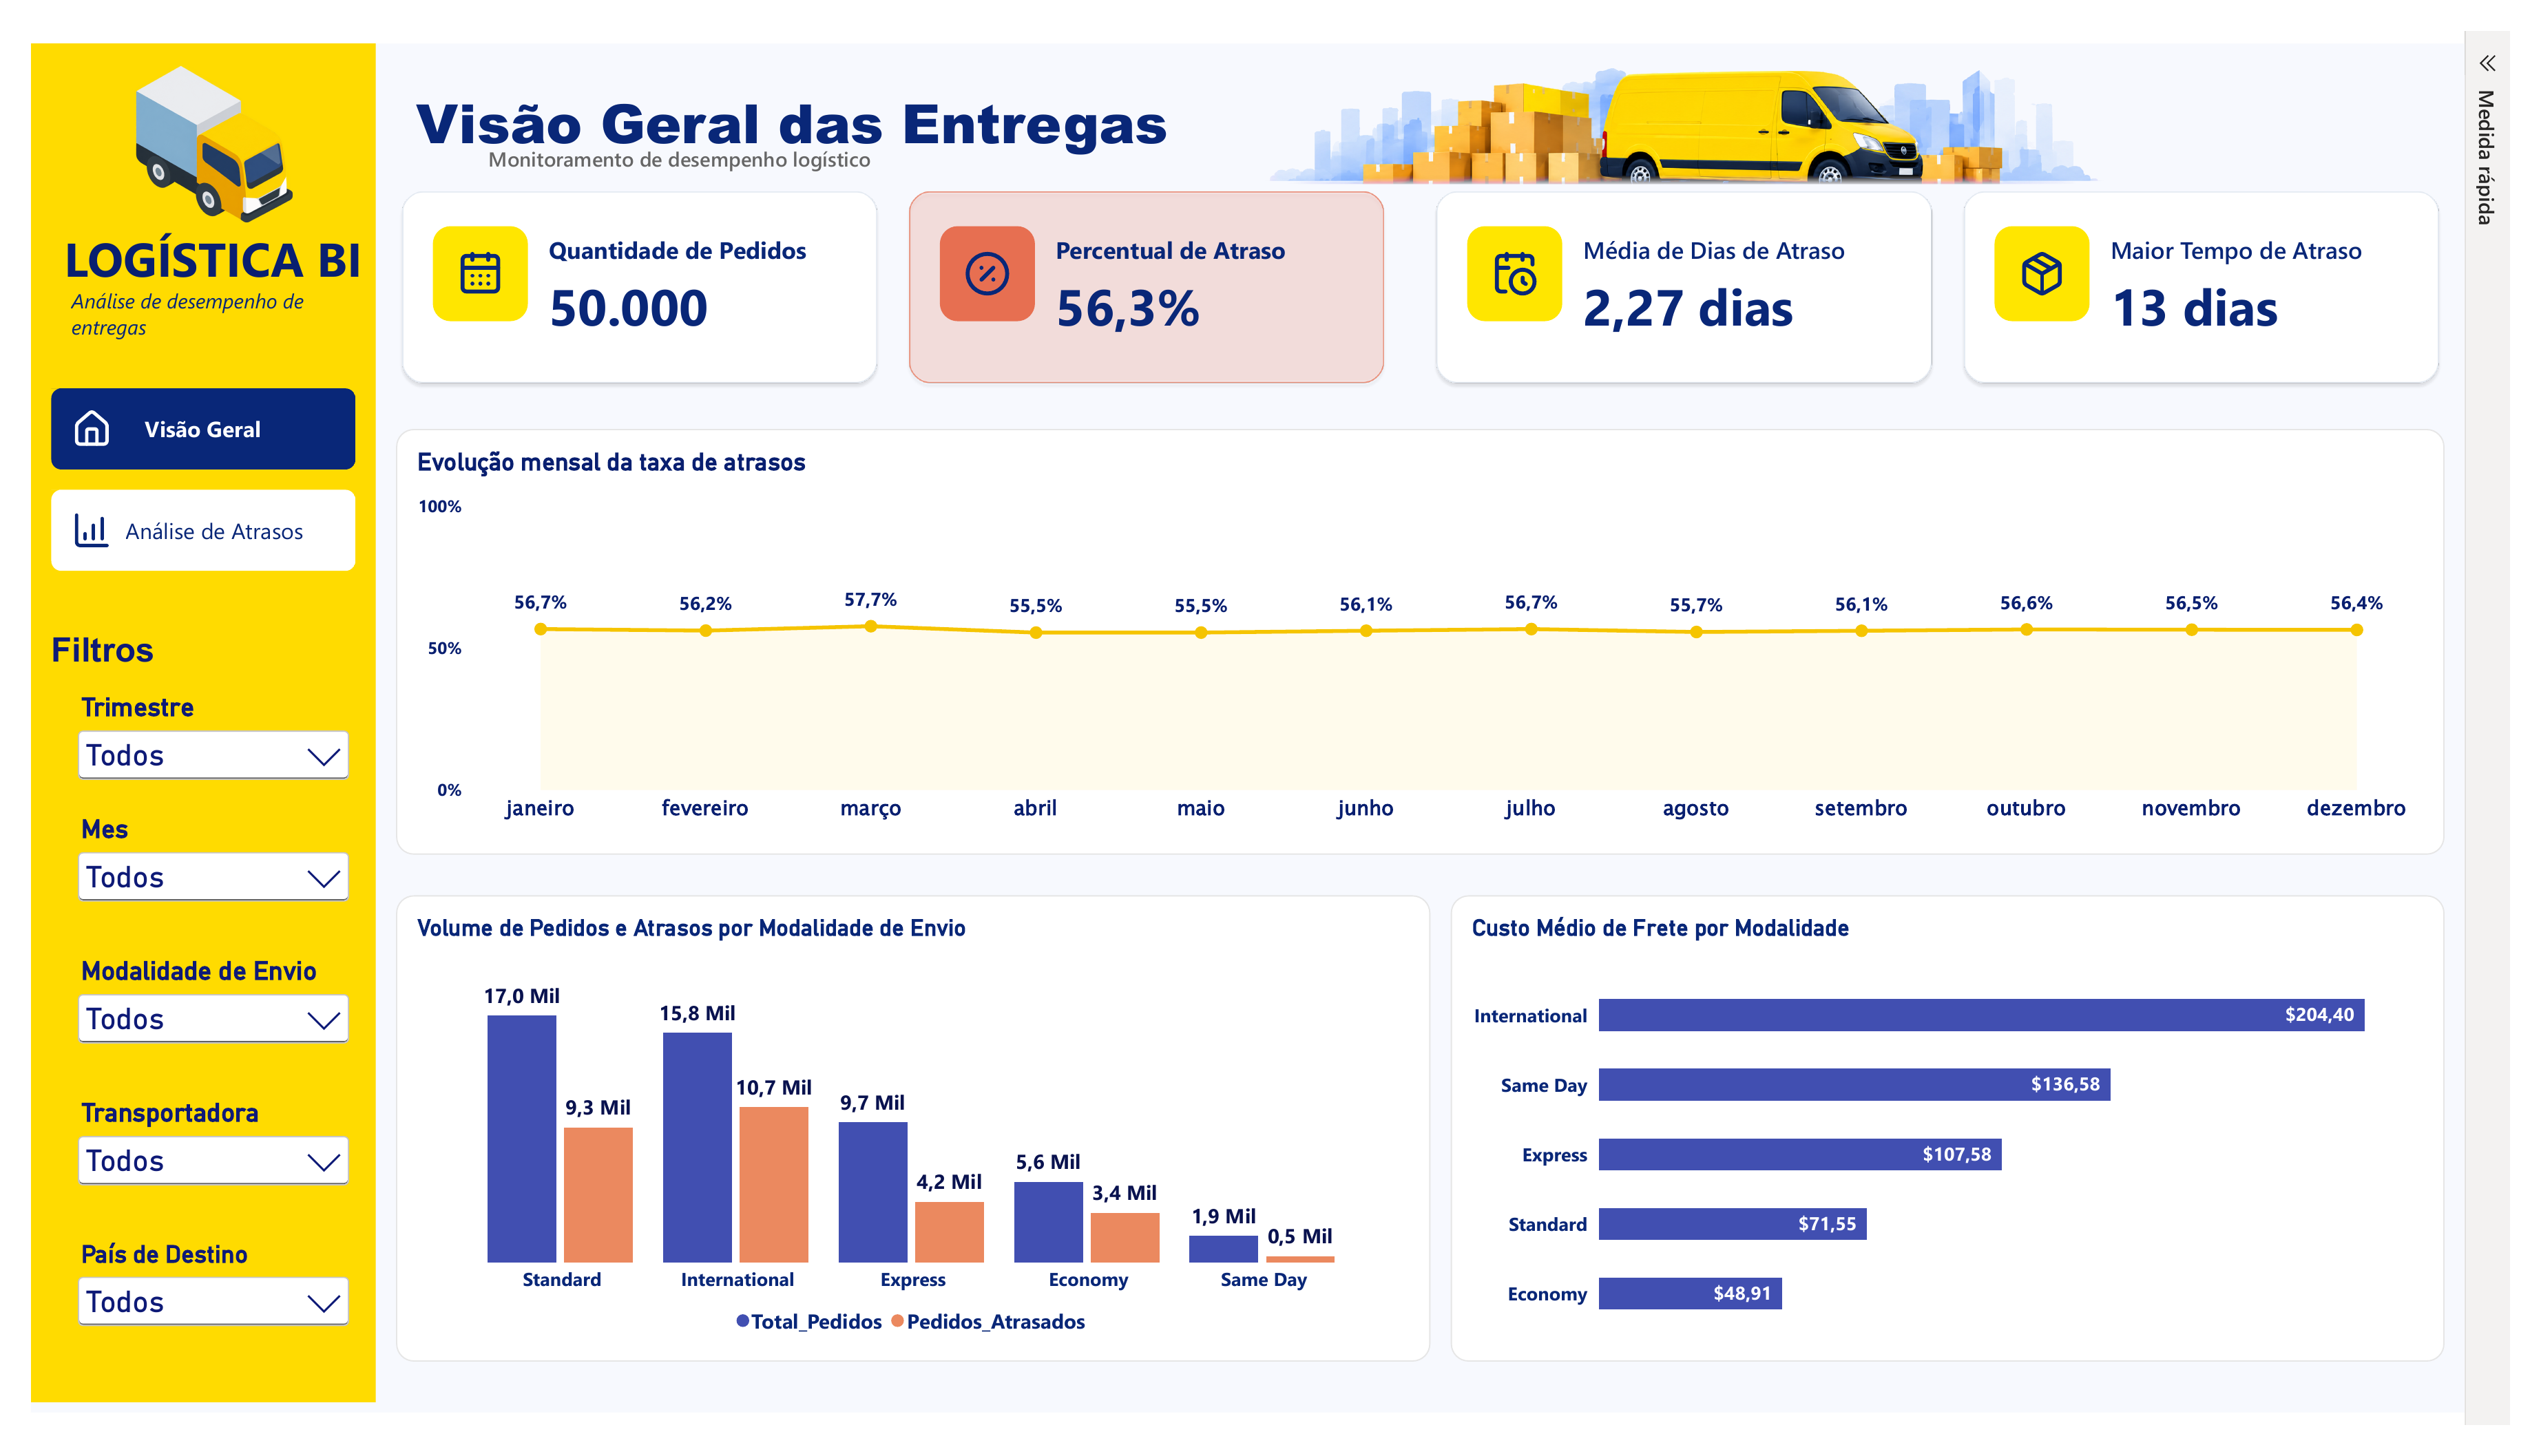

This screenshot's page, from the dashboard's own definition file:
{"tool":"powerbi","page":{"name":"Visão Geral","canvas":[1920,1080],"ordinal":0},"visuals":[{"type":"shape","box":[0,0,272,1072],"z":0},{"type":"cardVisual","fields":{"Data":["entregas_tratadas.Percentual_Atrasos"]},"box":[688,112,384,160],"z":1000},{"type":"cardVisual","fields":{"Data":["entregas_tratadas.Media_Dias_Atraso"]},"box":[1104,112,400,160],"z":2000},{"type":"cardVisual","fields":{"Data":["entregas_tratadas.Maior_Atraso"]},"box":[1520,112,384,160],"z":3000},{"type":"cardVisual","fields":{"Data":["entregas_tratadas.Total_Pedidos"]},"box":[288,112,384,160],"z":4000},{"type":"areaChart","title":"Evolução mensal da taxa de atrasos","fields":{"Category":["entregas_tratadas.order_date.Variação.Hierarquia de datas.Mês"],"Y":["entregas_tratadas.Percentual_Atrasos"]},"box":[288,304,1616,336],"z":5000},{"type":"textbox","box":[16,144,256,112],"z":6000},{"type":"textbox","box":[32,192,224,64],"z":7000},{"type":"actionButton","box":[16,272,240,64],"z":8000},{"type":"actionButton","title":"Análise de Atrasos","box":[16,352,240,64],"z":9000},{"type":"textbox","box":[286,816,272,256],"z":10000},{"type":"textbox","box":[304,32,928,128],"z":11000},{"type":"textbox","box":[320,80,384,32],"z":12000},{"type":"textbox","box":[288,816,384,256],"z":13000},{"type":"image","box":[1536,144,100,75],"z":14000},{"type":"image","box":[1120,144,100,75],"z":15000},{"type":"image","box":[704,144,100,75],"z":16000},{"type":"image","box":[304,144,100,75],"z":17000},{"type":"image","box":[16,288,64,32],"z":18000},{"type":"image","box":[16,368,64,32],"z":19000},{"type":"image","box":[720,0,1168,112],"z":20000},{"type":"clusteredColumnChart","title":"Volume de Pedidos e Atrasos por Modalidade de Envio","fields":{"Category":["entregas_tratadas.shipping_method"],"Y":["entregas_tratadas.Total_Pedidos","entregas_tratadas.Pedidos_Atrasados"]},"box":[288,672,816,368],"z":21000},{"type":"barChart","title":"Custo Médio de Frete por Modalidade","fields":{"Category":["entregas_tratadas.shipping_method"],"Y":["Avg(entregas_tratadas.shipping_cost_usd)"]},"box":[1120,672,784,368],"z":22000},{"type":"slicer","fields":{"Values":["entregas_tratadas.shipping_method"]},"box":[32,720,224,96],"z":23000},{"type":"slicer","fields":{"Values":["entregas_tratadas.order_date.Variação.Hierarquia de datas.Trimestre"]},"box":[32,512,224,96],"z":24000},{"type":"slicer","fields":{"Values":["entregas_tratadas.order_date.Variação.Hierarquia de datas.Mês"]},"box":[32,608,224,96],"z":25000},{"type":"slicer","fields":{"Values":["entregas_tratadas.carrier"]},"box":[32,832,224,96],"z":26000},{"type":"slicer","fields":{"Values":["entregas_tratadas.customer_country"]},"box":[32,944,224,96],"z":27000},{"type":"textbox","box":[16,464,96,48],"z":28000},{"type":"image","box":[48,16,192,128],"z":29000}]}

Visuals, with their boxes in screenshot pixels (x1, y1, x2, y2), scaled from the page's 1920x1080 canvas onto the 2541x1456 screenshot:
shape: bbox=(0, 0, 360, 1445)
cardVisual - entregas_tratadas.Percentual_Atrasos: bbox=(910, 151, 1419, 367)
cardVisual - entregas_tratadas.Media_Dias_Atraso: bbox=(1461, 151, 1990, 367)
cardVisual - entregas_tratadas.Maior_Atraso: bbox=(2011, 151, 2520, 367)
cardVisual - entregas_tratadas.Total_Pedidos: bbox=(381, 151, 890, 367)
"Evolução mensal da taxa de atrasos" areaChart: bbox=(381, 410, 2520, 863)
textbox: bbox=(21, 194, 360, 345)
textbox: bbox=(43, 259, 339, 345)
actionButton: bbox=(21, 367, 339, 453)
"Análise de Atrasos" actionButton: bbox=(21, 474, 339, 561)
textbox: bbox=(379, 1100, 738, 1445)
textbox: bbox=(402, 43, 1631, 215)
textbox: bbox=(423, 108, 932, 151)
textbox: bbox=(381, 1100, 890, 1445)
image: bbox=(2033, 194, 2165, 295)
image: bbox=(1482, 194, 1615, 295)
image: bbox=(932, 194, 1064, 295)
image: bbox=(402, 194, 534, 295)
image: bbox=(21, 388, 106, 432)
image: bbox=(21, 496, 106, 539)
image: bbox=(953, 0, 2498, 151)
"Volume de Pedidos e Atrasos por Modalidade de Envio" clusteredColumnChart: bbox=(381, 906, 1461, 1402)
"Custo Médio de Frete por Modalidade" barChart: bbox=(1482, 906, 2520, 1402)
slicer - entregas_tratadas.shipping_method: bbox=(43, 971, 339, 1100)
slicer - entregas_tratadas.order_date.Variação.Hierarquia de datas.Trimestre: bbox=(43, 690, 339, 820)
slicer - entregas_tratadas.order_date.Variação.Hierarquia de datas.Mês: bbox=(43, 820, 339, 949)
slicer - entregas_tratadas.carrier: bbox=(43, 1121, 339, 1251)
slicer - entregas_tratadas.customer_country: bbox=(43, 1273, 339, 1402)
textbox: bbox=(21, 626, 148, 690)
image: bbox=(63, 21, 317, 194)
